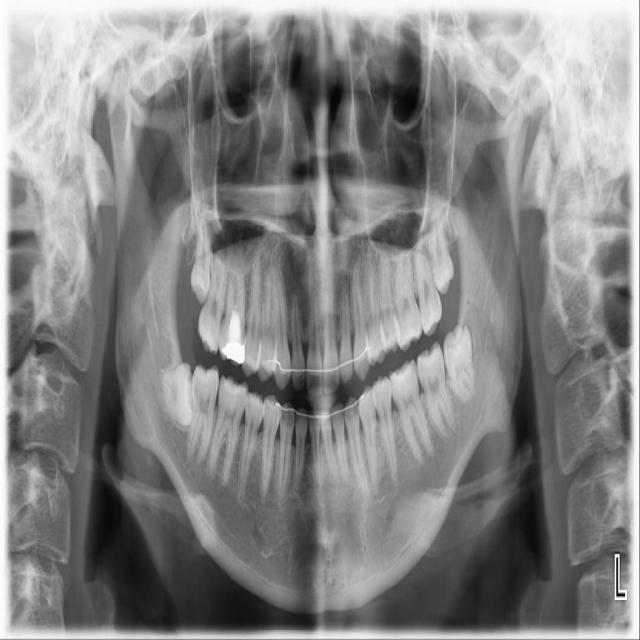Crown: (223, 339, 245, 364)
Filling: (226, 301, 242, 338)
impacted tooth: (427, 210, 454, 296), (443, 325, 476, 395), (158, 362, 192, 428), (189, 217, 211, 305)
